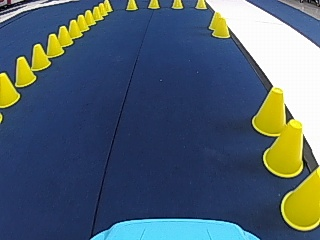cone: (263, 120, 305, 176), (280, 170, 319, 230), (251, 87, 288, 136), (0, 72, 20, 107), (14, 55, 35, 86), (30, 43, 50, 69), (46, 34, 63, 56), (213, 18, 230, 38), (57, 25, 73, 46), (68, 20, 82, 38), (208, 12, 222, 30), (75, 15, 89, 31), (84, 10, 95, 26), (92, 6, 102, 20), (126, 0, 138, 11), (100, 1, 110, 13), (103, 0, 112, 12), (148, 0, 159, 9), (172, 0, 183, 9), (195, 0, 206, 9), (98, 3, 106, 15)
